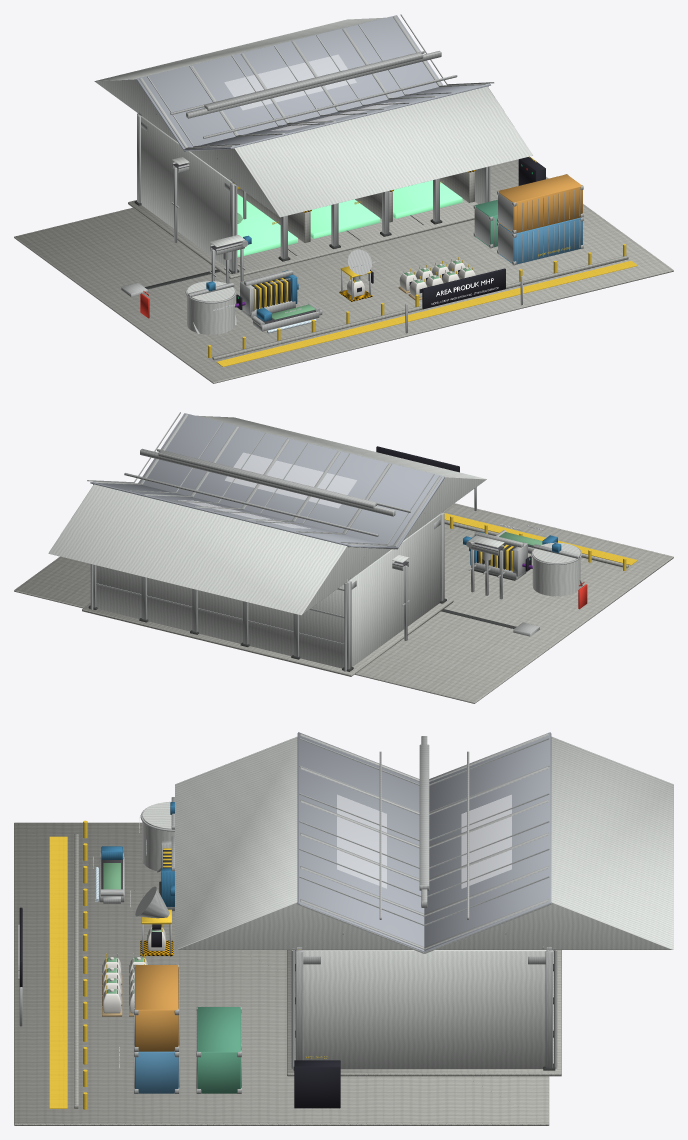
File: MHP_ProductWarehouse_IndustrialUV.fbx
3 renders of one model, top to bottom at view 1: azimuth 30°, elevation 25°; view 2: azimuth 150°, elevation 25°; view 3: azimuth 270°, elevation 25°, orthographic. The views are drawn at different scales.
Visible parts, largest first — view 1: MHP_Yard_Pad, Shed_Gable_Front, Shed_Roof_P, Shed_Wall_Left, Shed_FloorSlab, Shed_Gable_Back, ExportContainer_Stack_Box, Floor_Walkway_Yellow, Shed_Roof_N, Shed_Skylight_P, ExportContainer_0_Box, Prod_Thickener_Tank (+11 smaller); view 2: MHP_Yard_Pad, Shed_Gable_Back, Shed_Roof_N, Shed_Wall_Back, Shed_Wall_Left, Shed_Gable_Front, Shed_Roof_P, Shed_FloorSlab, Shed_Skylight_N, Prod_Thickener_Tank, Shed_RidgeVent, Shed_Ridge (+6 smaller); view 3: MHP_Yard_Pad, Shed_Wall_Right, Shed_Gable_Front, Shed_Gable_Back, Shed_Roof_N, Shed_Roof_P, Floor_Walkway_Yellow, ExportContainer_1_Box, ExportContainer_Stack_Box, Shed_Skylight_P, Shed_Skylight_N, Shed_FloorSlab (+8 smaller).
Boxes of the visible parts, x1,y1,x2,y2 form: MHP_Yard_Pad: [14, 159, 673, 383]; Shed_Gable_Front: [190, 86, 532, 217]; Shed_Roof_P: [136, 15, 443, 151]; Shed_Wall_Left: [141, 116, 232, 268]; Shed_FloorSlab: [128, 198, 477, 278]; Shed_Gable_Back: [94, 17, 385, 141]; ExportContainer_Stack_Box: [498, 174, 582, 232]; Floor_Walkway_Yellow: [216, 260, 637, 366]; Shed_Roof_N: [183, 84, 490, 150]; Shed_Skylight_P: [224, 54, 356, 109]; ExportContainer_0_Box: [499, 217, 582, 264]; Prod_Thickener_Tank: [187, 281, 234, 334]; MHP_Yard_Pad: [14, 503, 673, 703]; Shed_Gable_Back: [48, 484, 390, 615]; Shed_Roof_N: [138, 413, 444, 549]; Shed_Wall_Back: [96, 565, 344, 668]; Shed_Wall_Left: [349, 514, 440, 666]; Shed_Gable_Front: [196, 415, 486, 539]; Shed_Roof_P: [90, 482, 398, 548]; Shed_FloorSlab: [82, 598, 453, 676]; Shed_Skylight_N: [225, 453, 356, 507]; Prod_Thickener_Tank: [532, 542, 580, 596]; Shed_RidgeVent: [158, 450, 376, 508]; Shed_Ridge: [140, 448, 395, 516]; MHP_Yard_Pad: [14, 822, 549, 1125]; Shed_Wall_Right: [300, 950, 548, 1068]; Shed_Gable_Front: [175, 736, 412, 949]; Shed_Gable_Back: [436, 736, 673, 949]; Shed_Roof_N: [297, 732, 424, 952]; Shed_Roof_P: [424, 732, 551, 951]; Floor_Walkway_Yellow: [49, 836, 67, 1108]; ExportContainer_1_Box: [197, 1007, 240, 1093]; ExportContainer_Stack_Box: [135, 965, 178, 1051]; Shed_Skylight_P: [461, 795, 511, 888]; Shed_Skylight_N: [337, 795, 386, 888]; Shed_FloorSlab: [287, 950, 561, 1076].
Size of the model in its own units: 40 by 11.73 by 36.98.
Materials: 24 (11 with a texture image).
